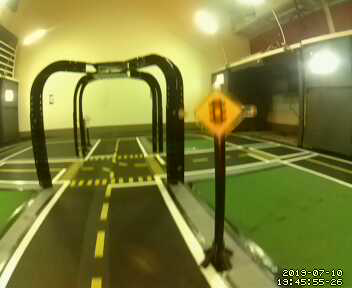Traffic light sign: (195, 90, 240, 140)
